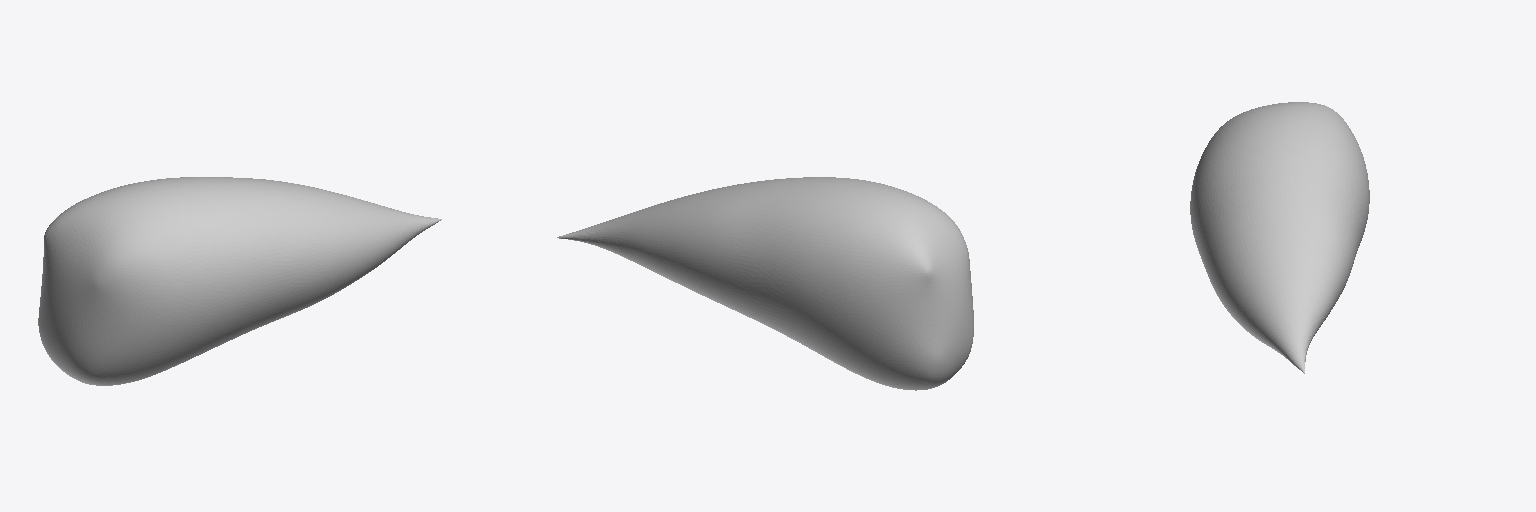
Rendered from spectral_final.obj.
3 views of the same model, side by side, from view 1: azimuth 30°, elevation 25°; view 2: azimuth 150°, elevation 25°; view 3: azimuth 270°, elevation 25° (orthographic).
Size of the model in its own units: 3.93 by 1.68 by 1.54.